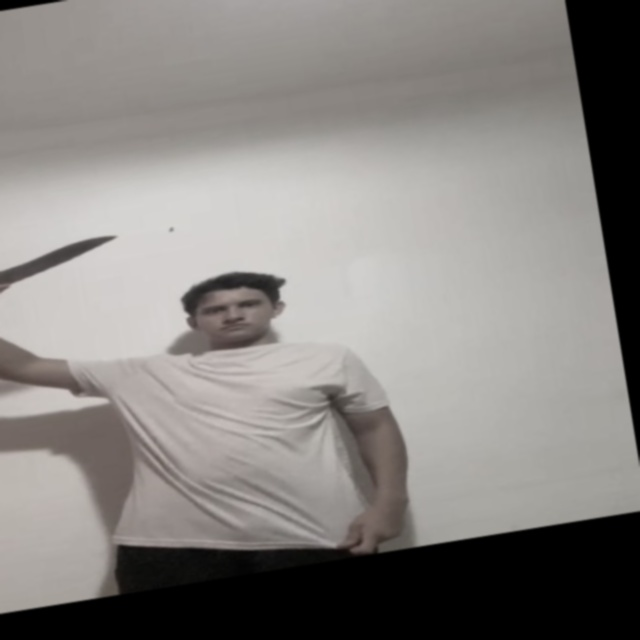Sharp-Object: (0, 232, 126, 284)
